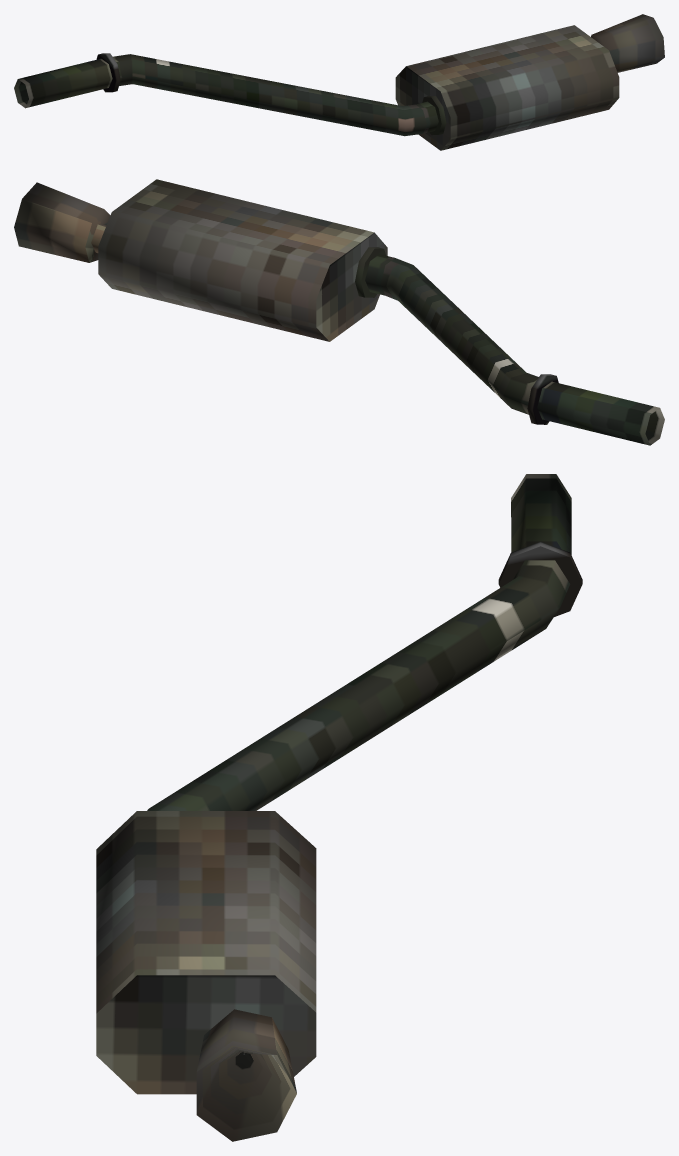
The model's file is Mofle.fbx.
3 renders of one model, top to bottom at view 1: azimuth 30°, elevation 25°; view 2: azimuth 150°, elevation 25°; view 3: azimuth 270°, elevation 25°, orthographic. The views are drawn at different scales.
Parts seen in each view (by area): view 1: _null_.001; view 2: _null_.001; view 3: _null_.001.
Part boxes in pixels (x1=…): _null_.001: x1=14, y1=14, x2=664, y2=150; _null_.001: x1=14, y1=179, x2=664, y2=445; _null_.001: x1=96, y1=474, x2=582, y2=1141.
Size of the model in its own units: 1136 by 155 by 429.
1 material, 1 textured.
